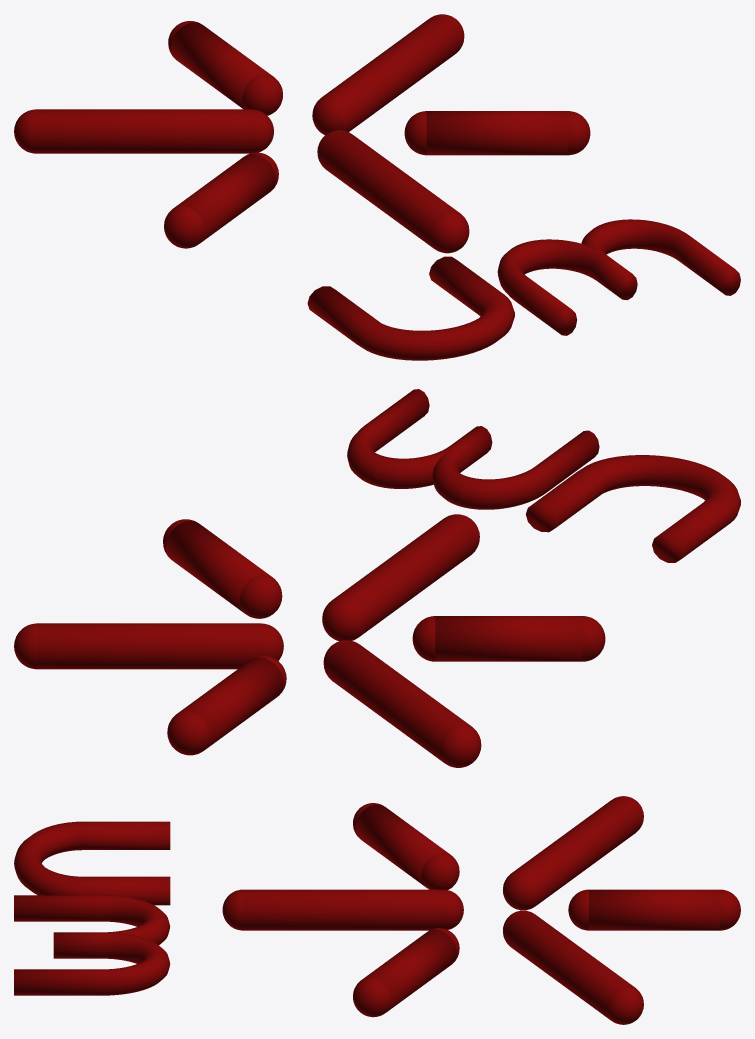
3 renders of one model, top to bottom at view 1: azimuth 30°, elevation 25°; view 2: azimuth 150°, elevation 25°; view 3: azimuth 270°, elevation 25°, orthographic. The views are drawn at different scales.
Visible parts, largest first — view 1: Cylinder.001, Torus.002, Torus, Sphere.001, Cylinder, Cylinder.002, Sphere.003, Sphere.002; view 2: Torus.002, Cylinder.002, Torus, Sphere.003, Cylinder.001, Cylinder, Sphere.002, Sphere.001; view 3: Torus.002, Cylinder, Torus, Sphere.002, Cylinder.001, Cylinder.002, Sphere.001, Sphere.003.
Boxes of the visible parts, <box> form: Cylinder.001: <box>14,109,273,153</box>; Torus.002: <box>497,219,740,335</box>; Torus: <box>307,256,514,360</box>; Sphere.001: <box>404,111,590,155</box>; Cylinder: <box>317,130,469,253</box>; Cylinder.002: <box>312,14,464,134</box>; Sphere.003: <box>164,152,278,248</box>; Sphere.002: <box>168,21,282,115</box>; Torus.002: <box>347,389,599,509</box>; Cylinder.002: <box>14,623,283,669</box>; Torus: <box>525,455,740,562</box>; Sphere.003: <box>412,616,605,661</box>; Cylinder.001: <box>323,640,481,767</box>; Cylinder: <box>322,514,479,641</box>; Sphere.002: <box>167,655,286,755</box>; Sphere.001: <box>163,519,282,618</box>; Torus.002: <box>14,895,170,995</box>; Cylinder: <box>222,889,463,930</box>; Torus: <box>14,821,170,905</box>; Sphere.002: <box>568,889,740,930</box>; Cylinder.001: <box>503,796,643,910</box>; Cylinder.002: <box>503,910,643,1024</box>; Sphere.001: <box>353,928,459,1017</box>; Sphere.003: <box>353,803,459,889</box>.
Bounding box in the file's own units: 8.63 × 0.8176 × 13.18.
